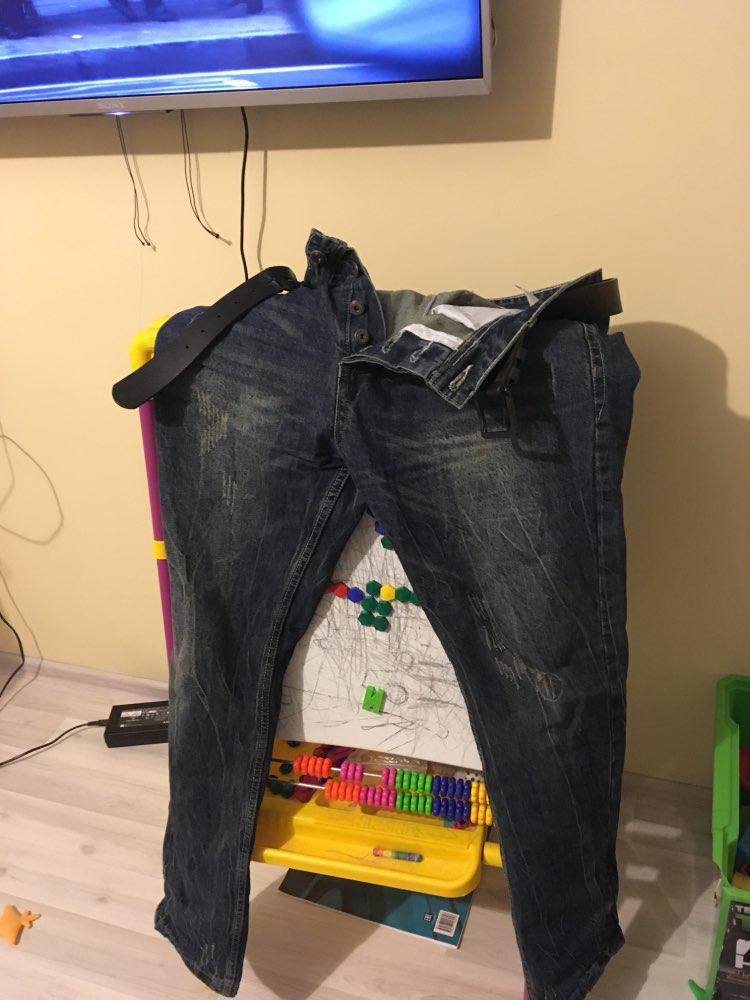jeans: (140, 275, 635, 1000)
